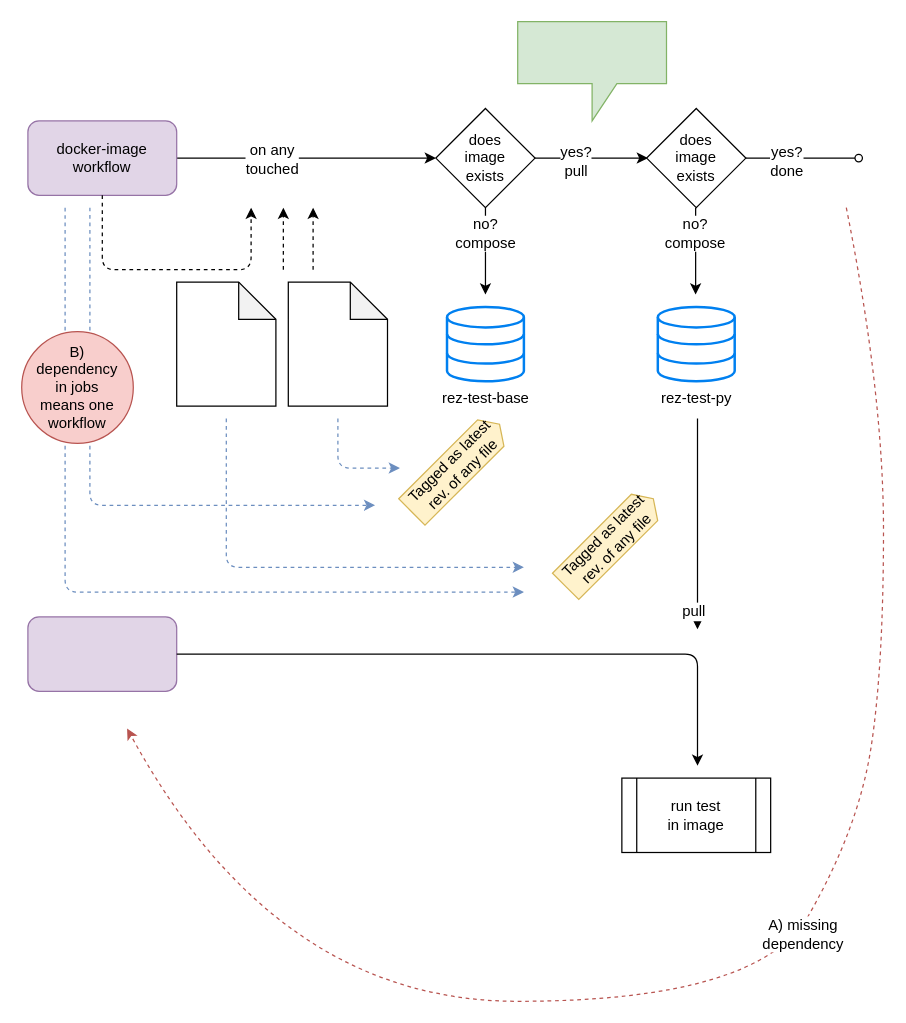
This 906x1023 diagram has some shape labels left out. Each missing label, with the box of its shape:
base Dockerfile: (287, 281, 388, 406)
C) Dependency in jobs: (516, 20, 666, 121)
py Dockerfile: (175, 281, 276, 406)
windows workflow: (27, 616, 177, 691)
